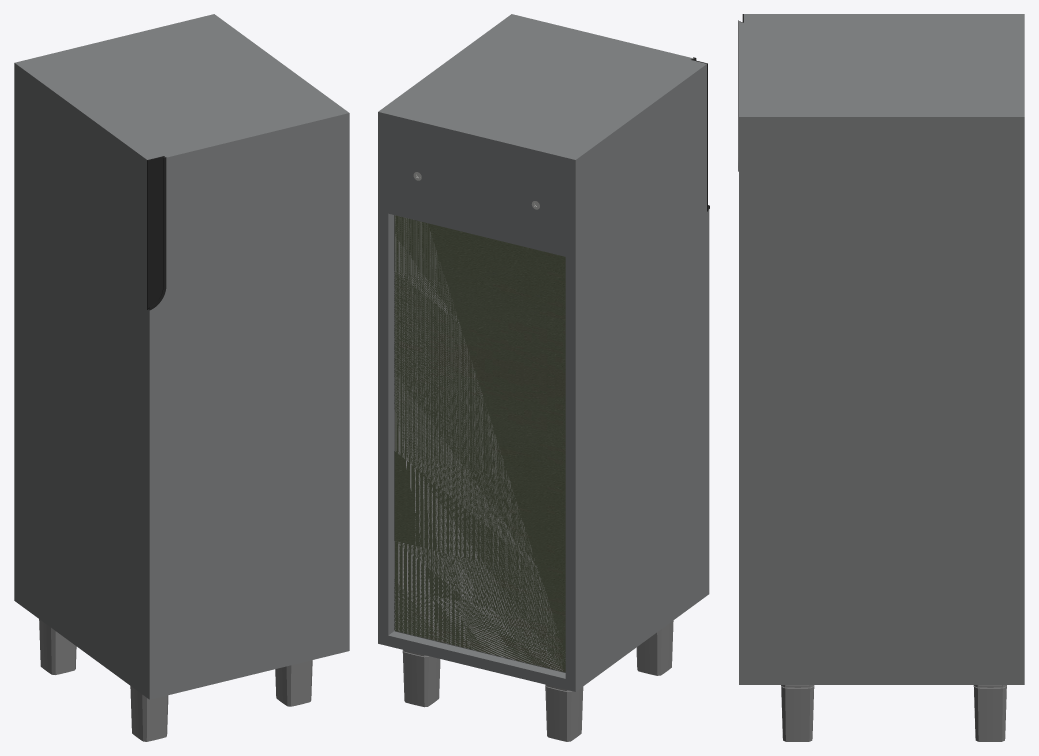
3 views of the same model, side by side, from view 1: azimuth 30°, elevation 25°; view 2: azimuth 150°, elevation 25°; view 3: azimuth 270°, elevation 25° (orthographic). The views are drawn at different scales.
Visible parts, largest first — view 1: group_0.268, group_0.389, group_0.326, group_0.329, group_0.327; view 2: group_0.268, group_0.365, group_0.329, group_0.328, group_0.326; view 3: group_0.268, group_0.327, group_0.328.
Part boxes in pixels (x1,y1,x2,y2): group_0.268: [14, 14, 349, 699]; group_0.389: [147, 156, 166, 310]; group_0.326: [130, 686, 168, 741]; group_0.329: [39, 619, 76, 674]; group_0.327: [275, 660, 312, 706]; group_0.268: [378, 14, 709, 691]; group_0.365: [394, 215, 565, 672]; group_0.329: [545, 685, 583, 741]; group_0.328: [402, 650, 440, 707]; group_0.326: [636, 620, 673, 675]; group_0.268: [739, 14, 1024, 684]; group_0.327: [781, 685, 814, 741]; group_0.328: [973, 685, 1006, 741].
Bounding box in the file's own units: 0.3504 × 1 × 0.411.
Materials: 8 (5 with a texture image).
